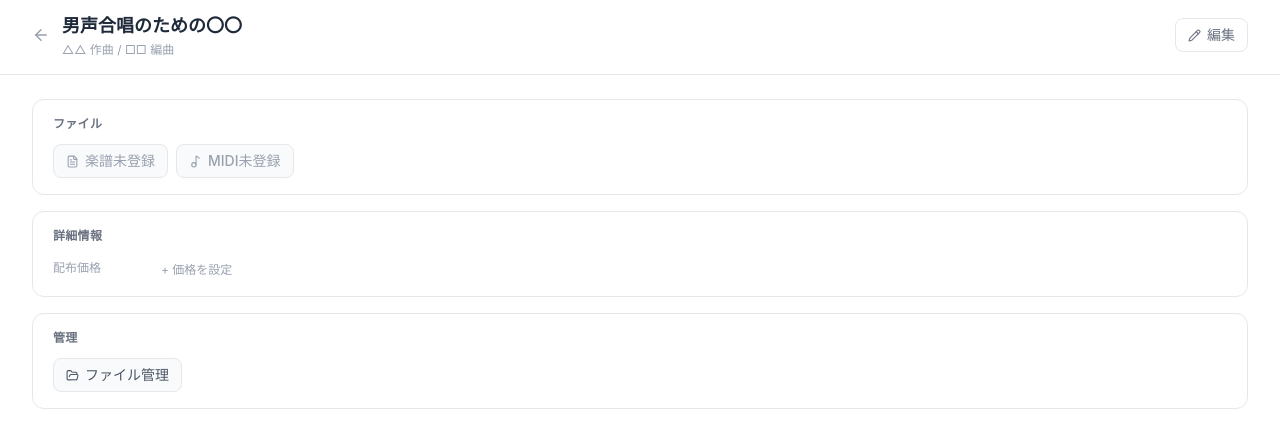
Test case: ScoreDetailPage（配布価格インライン編集） › 「+ 価格を設定」から未設定の価格を入れられる
The width and height of the screenshot is (1280, 426).
Click the button "+ 価格を設定".
click(197, 270)  # box 161,262 -> 232,278
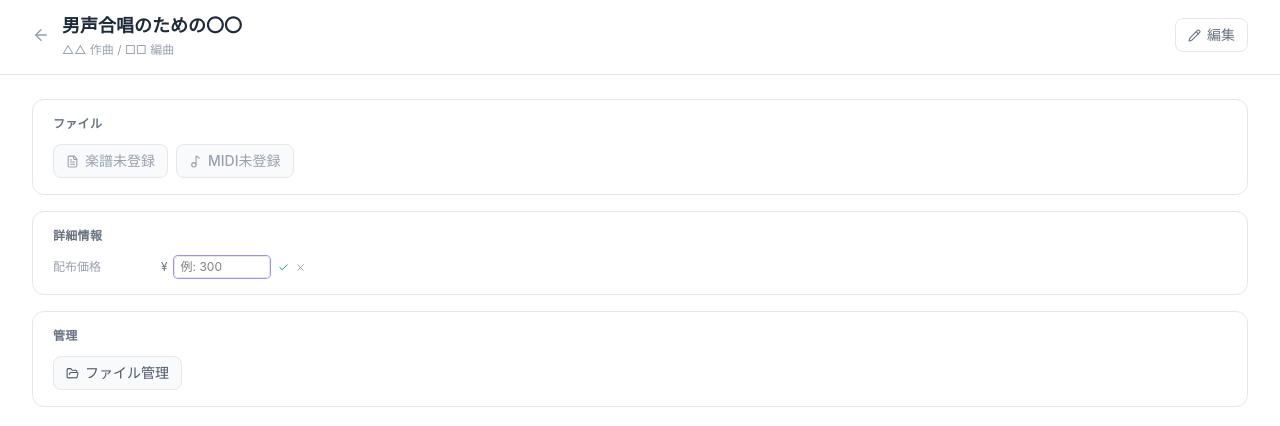
Type "300" into the field named "配布価格".
click(222, 267); type("300")  # box 174,256 -> 270,278
Then press Enter
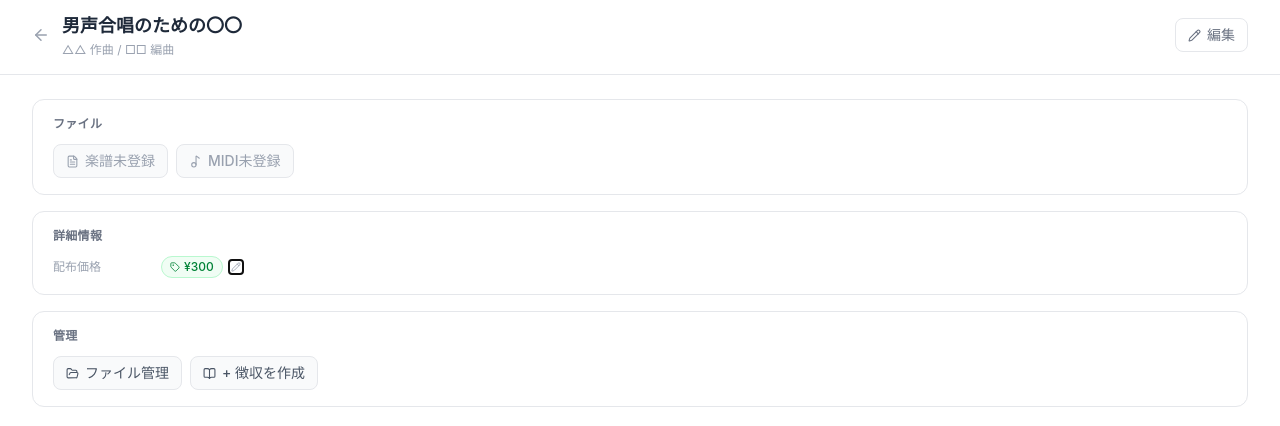
Expected: the text "¥300" is shown, 161,256 -> 223,278
